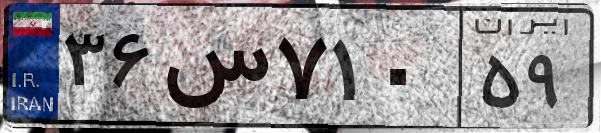0: (385, 28, 445, 110)
1: (330, 28, 385, 110)
3: (57, 26, 110, 100)
5: (475, 38, 525, 113)
6: (110, 28, 158, 98)
7: (270, 28, 330, 110)
9: (525, 38, 570, 115)
س: (158, 20, 270, 120)
